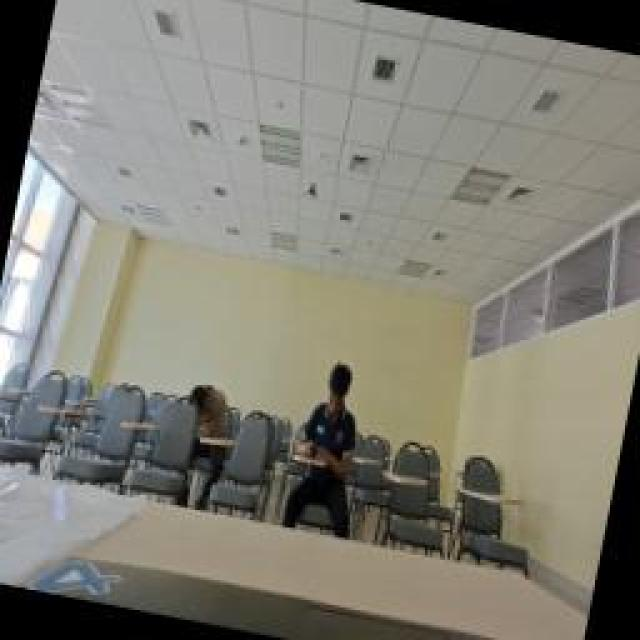sleep: (175, 380, 233, 440)
study: (288, 355, 370, 470)
